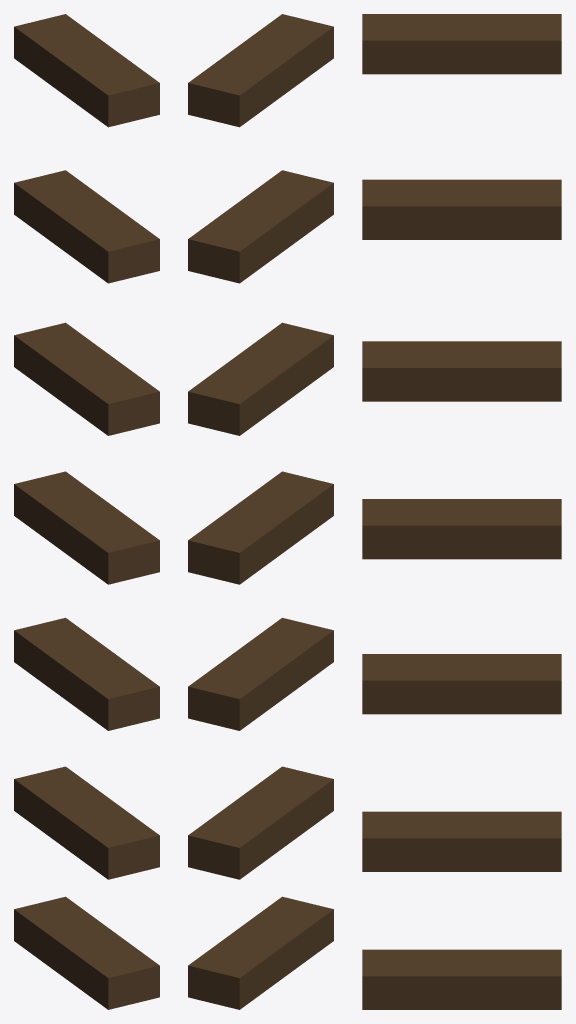
Rendered from wood_ladder.fbx.
3 renders of one model, left to right at view 1: azimuth 30°, elevation 25°; view 2: azimuth 150°, elevation 25°; view 3: azimuth 270°, elevation 25°, orthographic. The views are drawn at different scales.
Parts seen in each view (by area): view 1: wood_ladder; view 2: wood_ladder; view 3: wood_ladder.
Part boxes in pixels (x1,y1,x2,y2): wood_ladder: (14, 14, 159, 1009); wood_ladder: (188, 14, 333, 1009); wood_ladder: (362, 14, 561, 1009).
Size of the model in its own units: 17.34 by 293 by 54.77.
